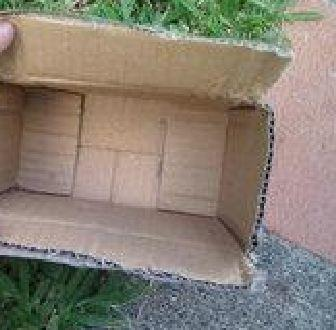cardboard: (0, 5, 286, 282)
